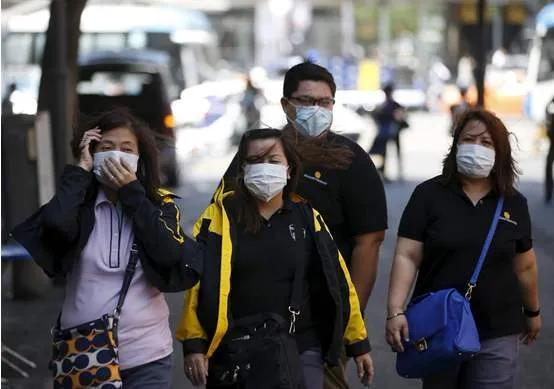mask: (242, 144, 294, 207), (286, 82, 333, 139), (92, 132, 139, 182), (462, 127, 497, 185)
